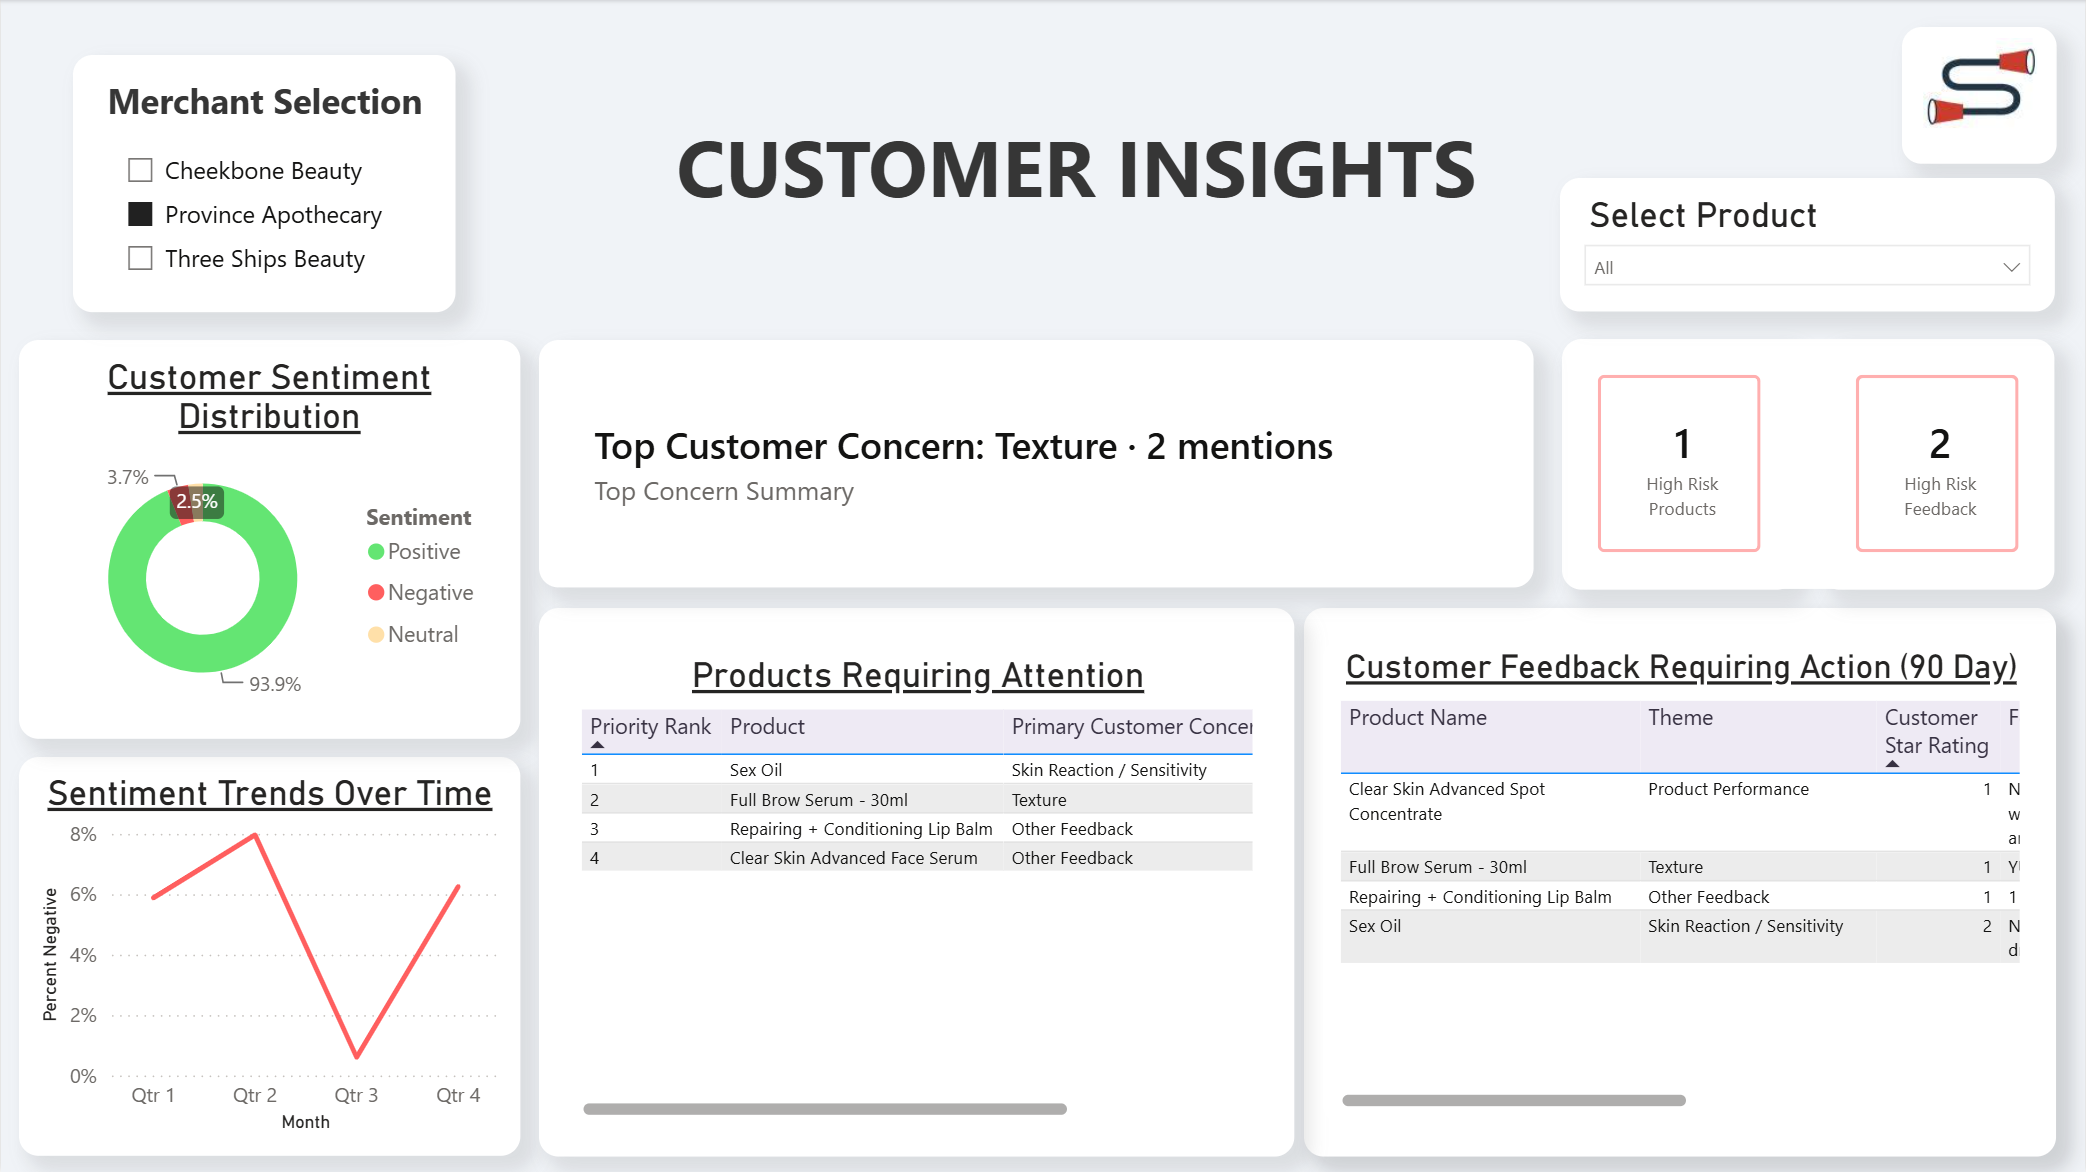

What the dashboard file says about the page in this screenshot:
{"tool":"powerbi","page":{"name":"Customer Insights","canvas":[1280,720],"ordinal":2},"visuals":[{"type":"shape","box":[11.1,465.1,307.8,244.5],"z":0},{"type":"shape","box":[11.1,208.9,307.8,244.5],"z":1000},{"type":"shape","box":[800.5,373.5,462,337.2],"z":2000},{"type":"shape","box":[330.6,373.5,463.6,337.2],"z":3000},{"type":"textbox","box":[379.7,63.9,562.1,98.3],"z":4000},{"type":"shape","box":[44.2,33.8,234.7,158.5],"z":5000},{"type":"textbox","box":[60.2,41.8,204,44.2],"z":6000},{"type":"slicer","fields":{"Values":["Dim Merchant.Merchant Display"]},"box":[65.1,86,204.6,100.8],"z":7000},{"type":"donutChart","title":"Customer Sentiment Distribution","fields":{"Category":["Review Details.Sentiment Display"],"Y":["CountNonNull(Review Details.review_description)"]},"box":[18.4,218.7,293,224.8],"z":8000},{"type":"lineChart","title":"Sentiment Trends Over Time","fields":{"Category":["Monthly Trends.month.Variation.Date Hierarchy.Quarter"],"Y":["Avg(Monthly Trends.negative_percent)"]},"box":[19.7,474.3,291.2,225.5],"z":9000},{"type":"tableEx","title":"Products Requiring Attention","fields":{"Values":["Product Risk Summary.priority_rank","Product Risk Summary.product_name","Product Risk Summary.primary_customer_concern","Product Risk Summary.risk_level","Product Risk Summary.product_risk_score"]},"box":[345.9,396.9,433.1,299.2],"z":10000},{"type":"tableEx","title":"Customer Feedback Requiring Action (90 Day)","fields":{"Values":["Customer Voice Highlights.product_name","Customer Voice Highlights.theme","Customer Voice Highlights.customer_star_rating","Customer Voice Highlights.feedback_excerpt"]},"box":[811.9,392.8,438.3,297.9],"z":11000},{"type":"cardVisual","fields":{"Data":["CountNonNull(Product Risk Summary.product_name)"]},"box":[959.2,208.3,144.4,153.5],"z":12000},{"type":"cardVisual","fields":{"Data":["CountNonNull(Customer Voice Highlights.customer_feedback)"]},"box":[1117.3,208.3,144.4,153.5],"z":13000},{"type":"cardVisual","fields":{"Data":["Product Risk Summary.Top Concern Summary"]},"box":[330.4,208.6,611.5,151.6],"z":14000},{"type":"shape","box":[1167.8,16.6,95.2,83.5],"z":15000},{"type":"image","box":[1178.9,23.3,73.7,69.4],"z":16000},{"type":"shape","box":[1086.9,208.3,51.7,153.5],"z":17000},{"type":"slicer","fields":{"Values":["Dim Product.product_name"]},"box":[957.7,109.5,304,82.1],"z":18000}]}

Visuals, with their boxes in screenshot pixels (x1, y1, x2, y2), scaled from the page's 1280x720 canvas onto the 2086x1172 screenshot:
shape: crop(18, 757, 520, 1155)
shape: crop(18, 340, 520, 738)
shape: crop(1305, 608, 2057, 1157)
shape: crop(539, 608, 1294, 1157)
textbox: crop(619, 104, 1535, 264)
shape: crop(72, 55, 455, 313)
textbox: crop(98, 68, 431, 140)
slicer - Dim Merchant.Merchant Display: crop(106, 140, 440, 304)
"Customer Sentiment Distribution" donutChart: crop(30, 356, 507, 722)
"Sentiment Trends Over Time" lineChart: crop(32, 772, 507, 1139)
"Products Requiring Attention" tableEx: crop(564, 646, 1270, 1133)
"Customer Feedback Requiring Action (90 Day)" tableEx: crop(1323, 639, 2037, 1124)
cardVisual - CountNonNull(Product Risk Summary.product_name): crop(1563, 339, 1799, 589)
cardVisual - CountNonNull(Customer Voice Highlights.customer_feedback): crop(1821, 339, 2056, 589)
cardVisual - Product Risk Summary.Top Concern Summary: crop(538, 340, 1535, 586)
shape: crop(1903, 27, 2058, 163)
image: crop(1921, 38, 2041, 151)
shape: crop(1771, 339, 1856, 589)
slicer - Dim Product.product_name: crop(1561, 178, 2056, 312)
